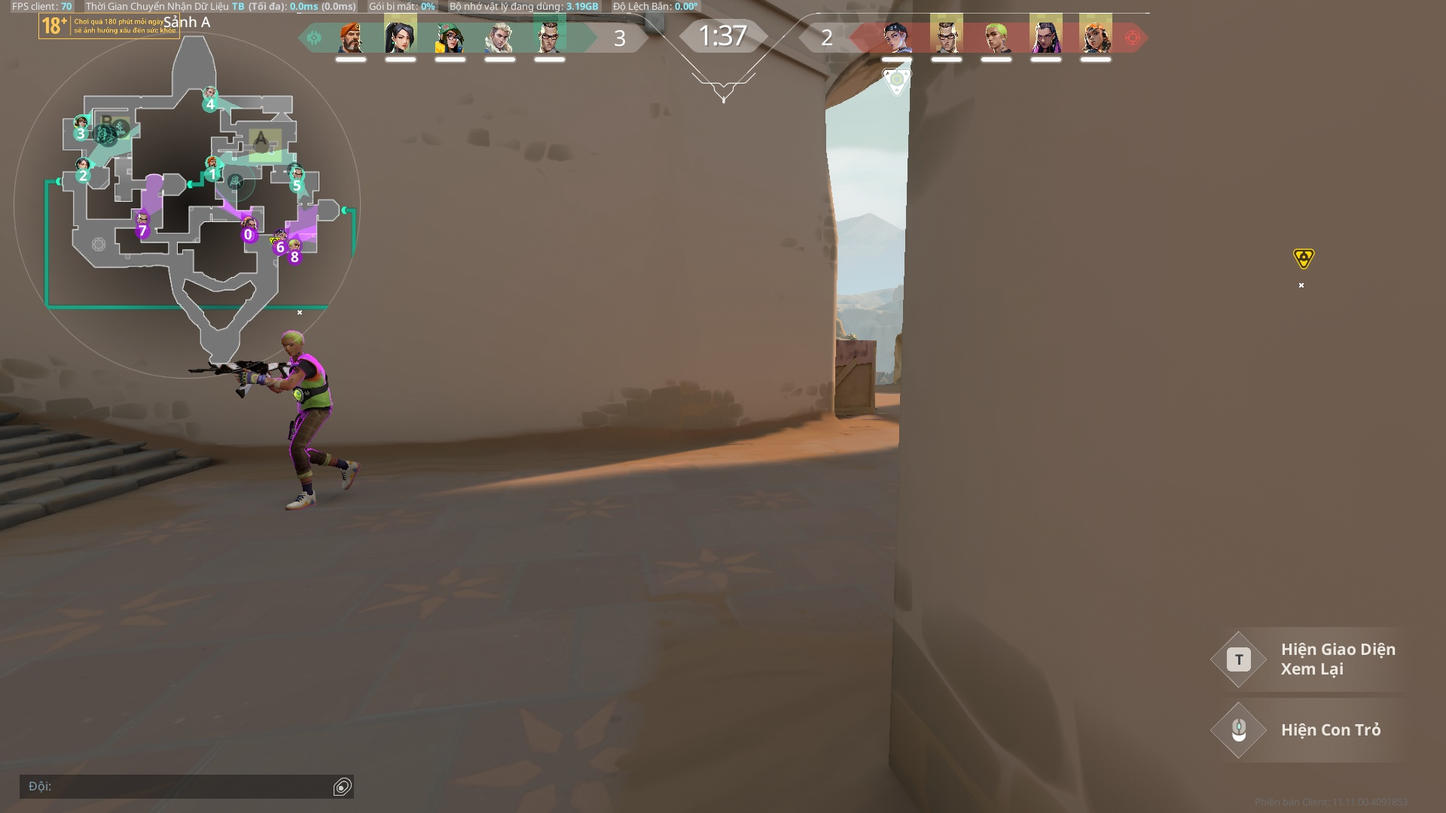body: (287, 349, 333, 411)
head: (279, 328, 308, 358)
